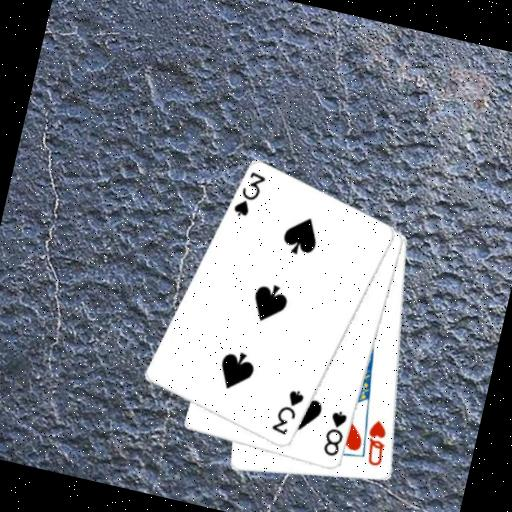3S: (268, 384, 308, 440), (229, 167, 269, 223)
8S: (320, 406, 351, 460)
QH: (358, 416, 393, 470)
